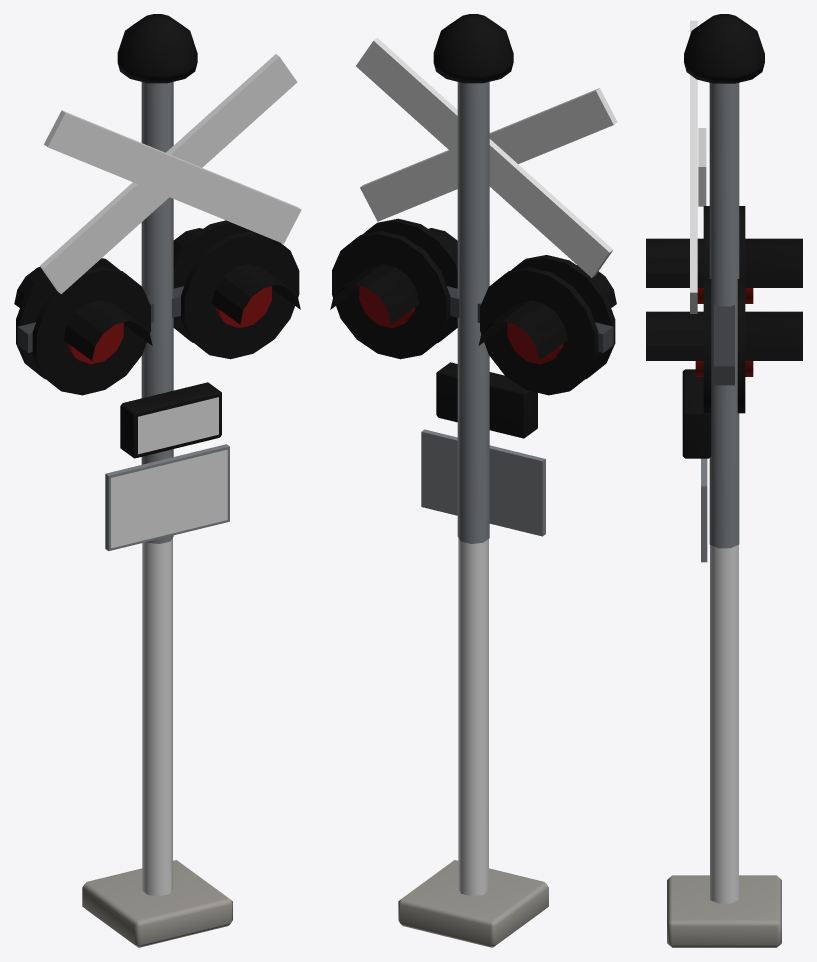
File: CrossingSignalKM.fbx
3 renders of one model, left to right at view 1: azimuth 30°, elevation 25°; view 2: azimuth 150°, elevation 25°; view 3: azimuth 270°, elevation 25°, orthographic.
Visible parts, largest first — view 1: CrossingSignalKM; view 2: CrossingSignalKM; view 3: CrossingSignalKM.
Part boxes in pixels (x1,y1,x2,y2): CrossingSignalKM: [14, 14, 301, 947]; CrossingSignalKM: [330, 14, 617, 947]; CrossingSignalKM: [646, 14, 802, 947].
Size of the model in its own units: 1.2 by 3.83 by 0.6.
